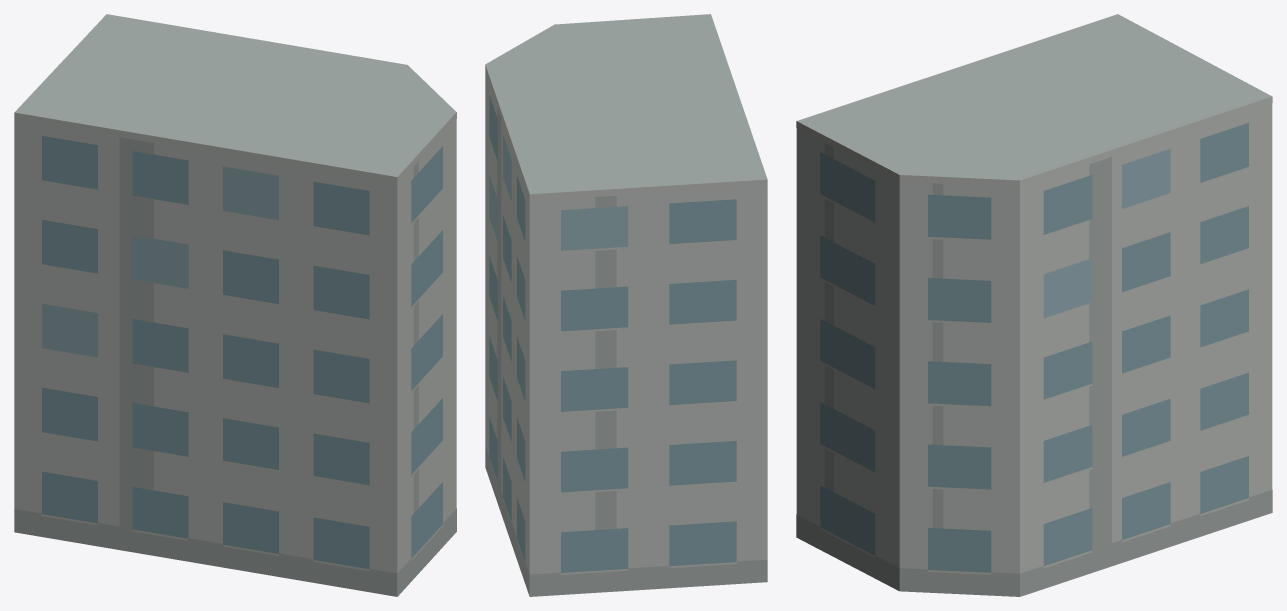
File: survey-upis-32850288.glb
3 views of the same model, side by side, from view 1: azimuth 30°, elevation 25°; view 2: azimuth 150°, elevation 25°; view 3: azimuth 270°, elevation 25° (orthographic). The views are drawn at different scales.
Visible parts, largest first — view 1: survey-upis-32850288.tmp; view 2: survey-upis-32850288.tmp; view 3: survey-upis-32850288.tmp.
Boxes of the visible parts, x1,y1,x2,y2 form: survey-upis-32850288.tmp: (14, 14, 456, 596); survey-upis-32850288.tmp: (485, 14, 767, 596); survey-upis-32850288.tmp: (796, 14, 1272, 596).
Bounding box in the file's own units: 12.44 × 14.5 × 15.02.
